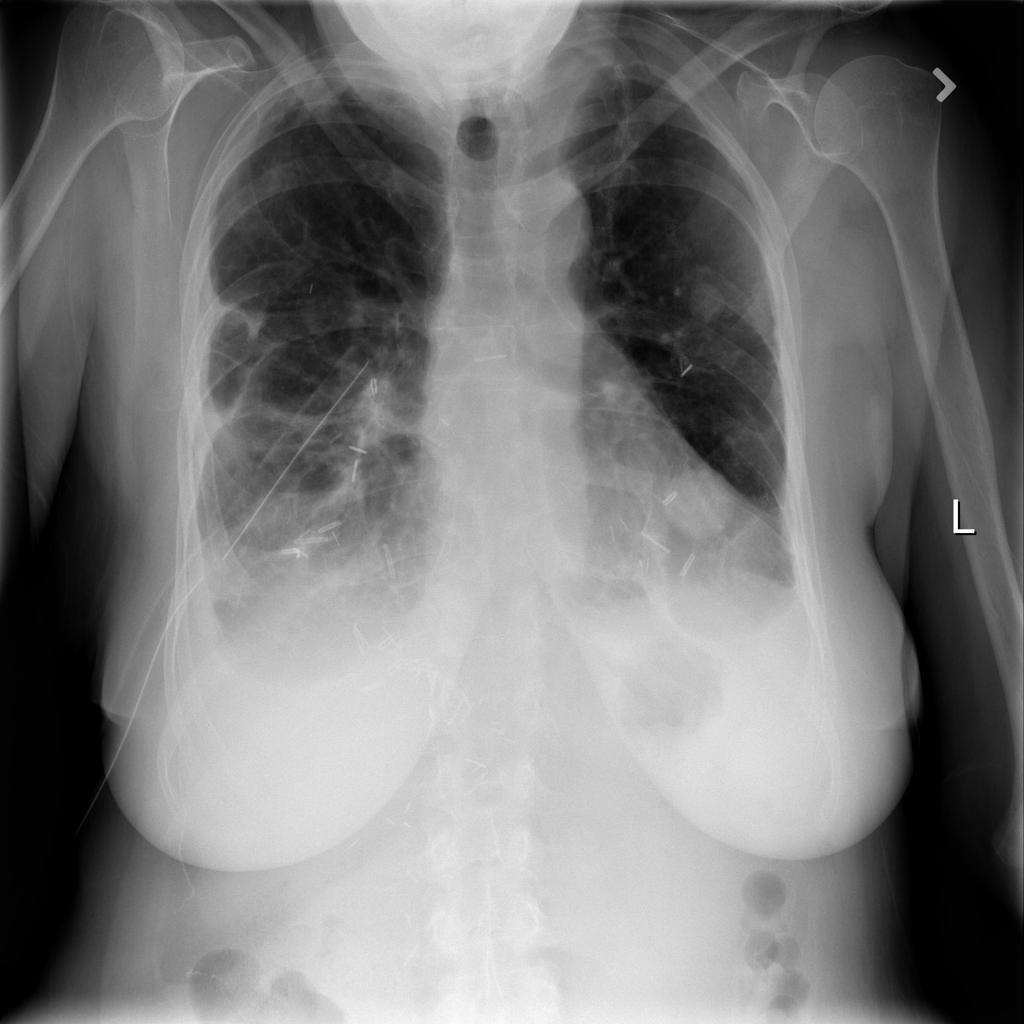nodule: (650, 451, 755, 557), (676, 259, 741, 339)
